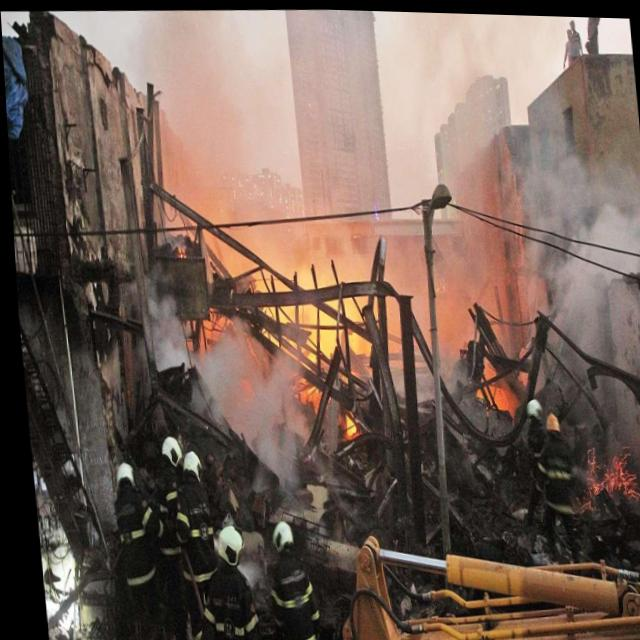fire: (477, 380, 508, 410), (344, 326, 368, 356), (334, 260, 365, 278), (339, 294, 358, 323), (315, 328, 333, 358), (272, 302, 294, 324), (295, 301, 316, 323), (297, 374, 314, 401), (339, 406, 353, 436), (313, 267, 334, 286), (266, 272, 285, 292), (292, 268, 311, 287), (299, 325, 314, 347), (314, 306, 331, 324), (257, 302, 272, 318)
